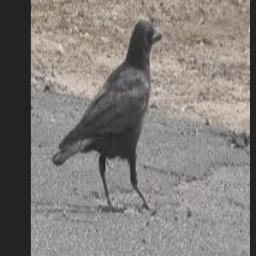Crow: (51, 19, 162, 215)
